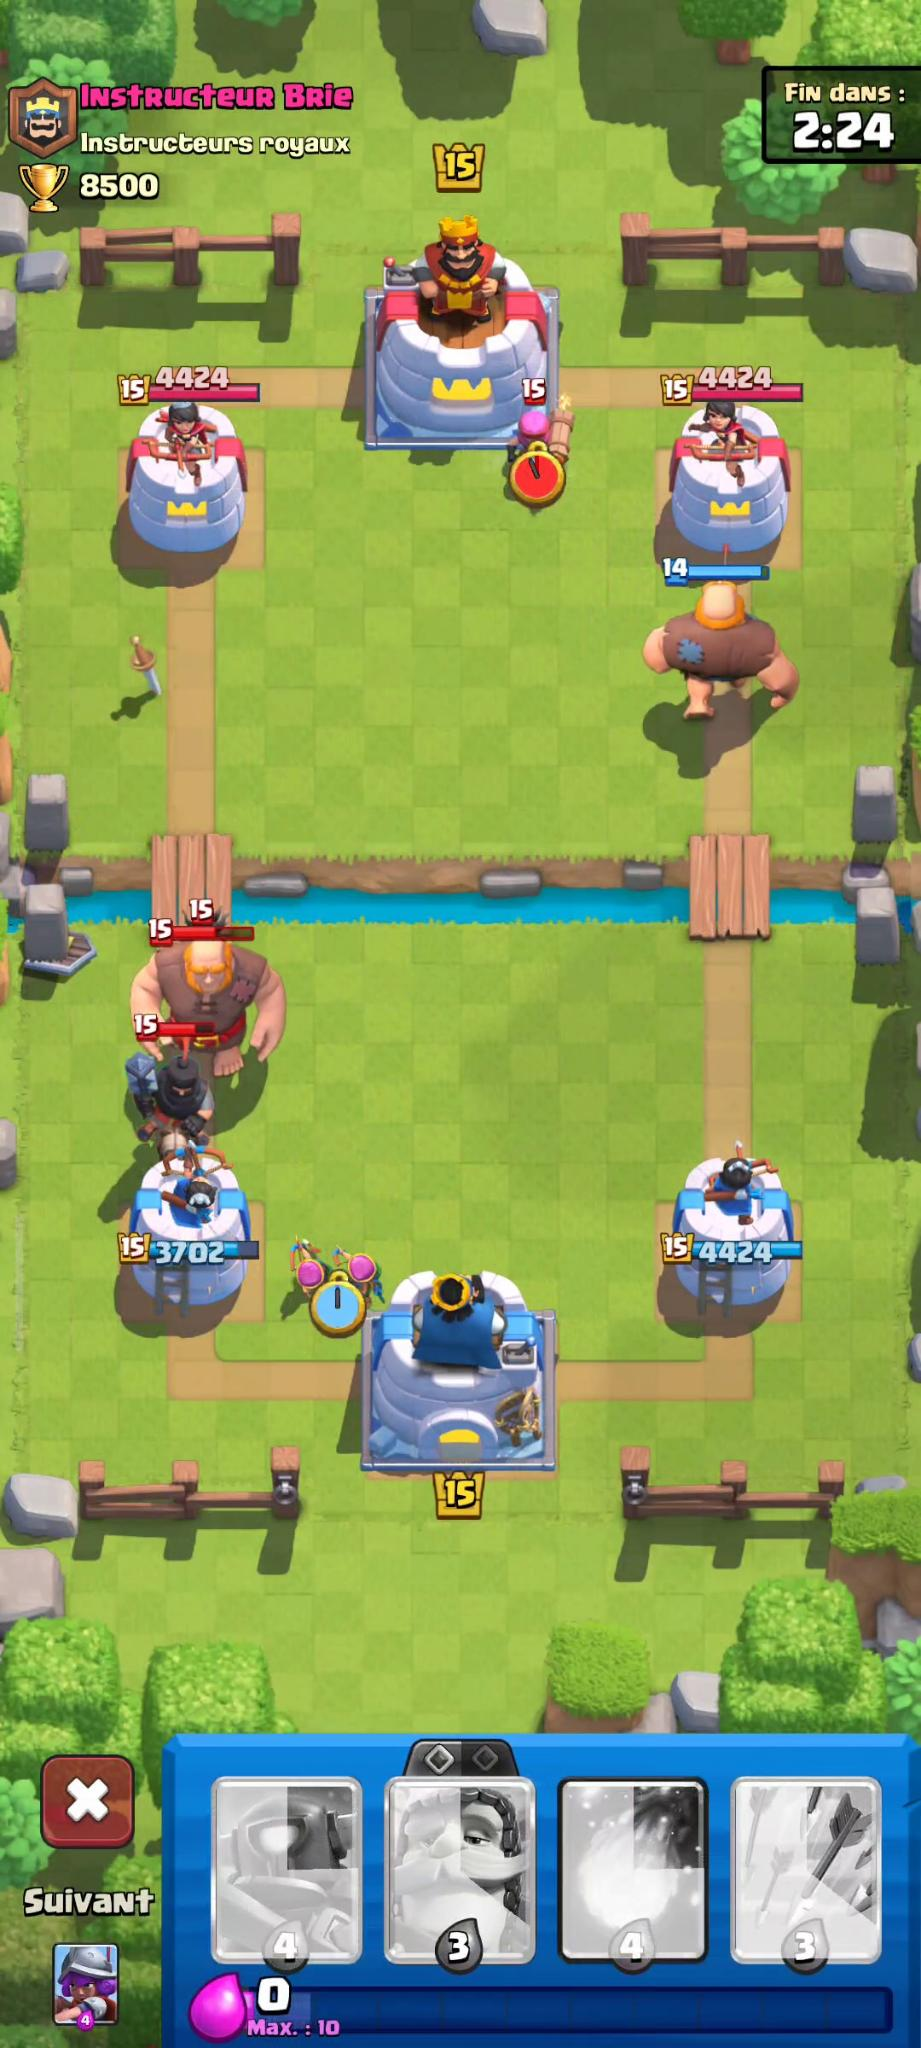archere: (344, 1246, 401, 1302), (285, 1232, 336, 1292)
geant: (640, 555, 822, 742), (123, 922, 314, 1087)
